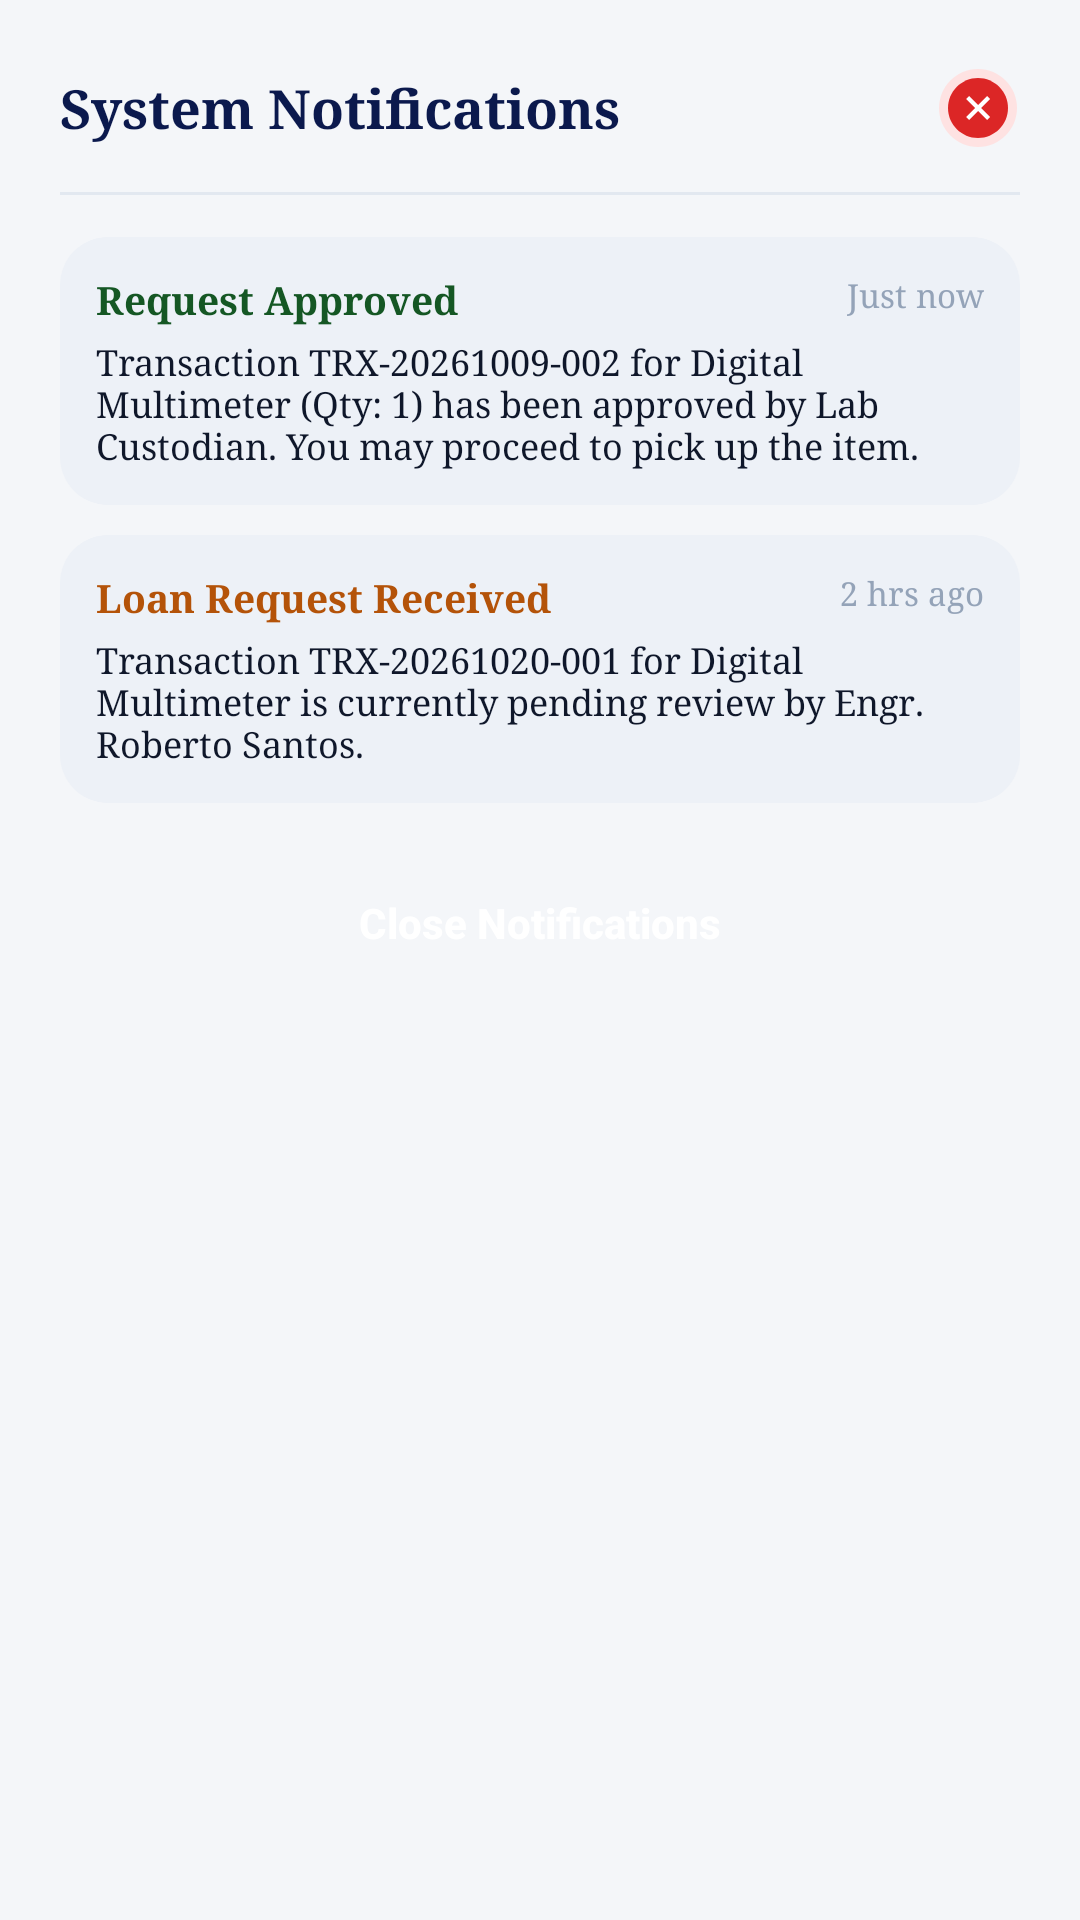

Screen size 1080x1920. Icon name, then its center in pixels as point (x, y):
Close: point (978, 108)
